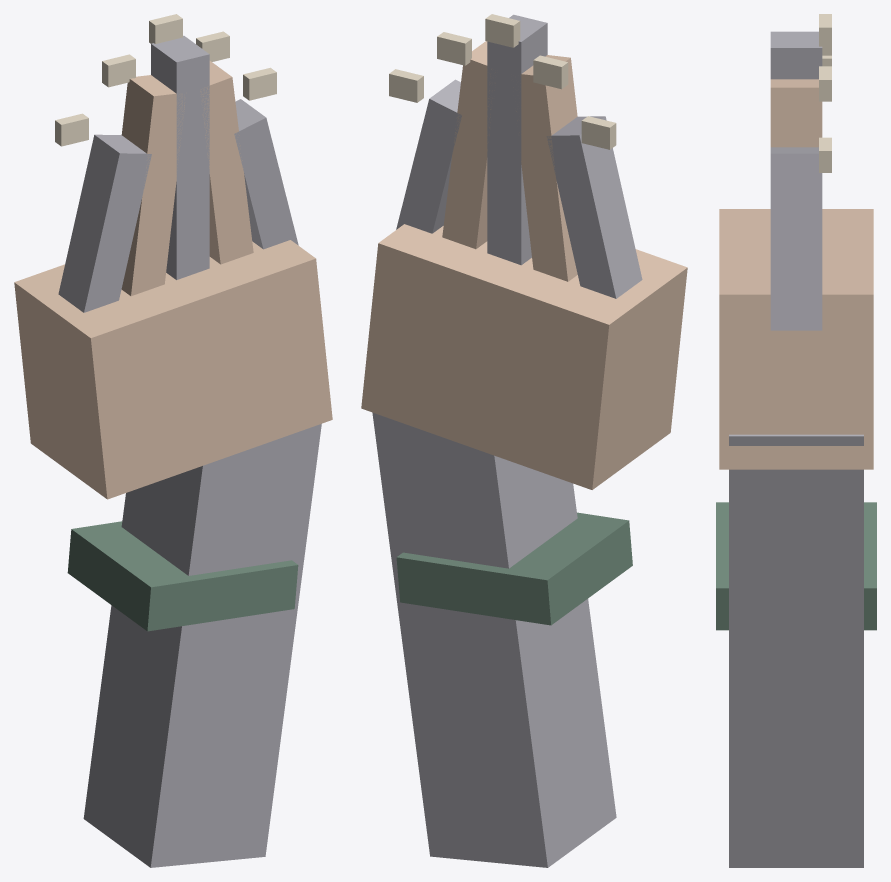
Rendered from grave_hand.glb.
3 views of the same model, side by side, from view 1: azimuth 30°, elevation 25°; view 2: azimuth 150°, elevation 25°; view 3: azimuth 270°, elevation 25° (orthographic). The views are drawn at different scales.
Parts seen in each view (by area): view 1: Moonpost Grave Hand; view 2: Moonpost Grave Hand; view 3: Moonpost Grave Hand.
Boxes of the visible parts, x1,y1,x2,y2 form: Moonpost Grave Hand: (14, 14, 332, 867); Moonpost Grave Hand: (361, 14, 687, 867); Moonpost Grave Hand: (716, 14, 876, 867).
Size of the model in its own units: 1.75 by 5.64 by 1.
